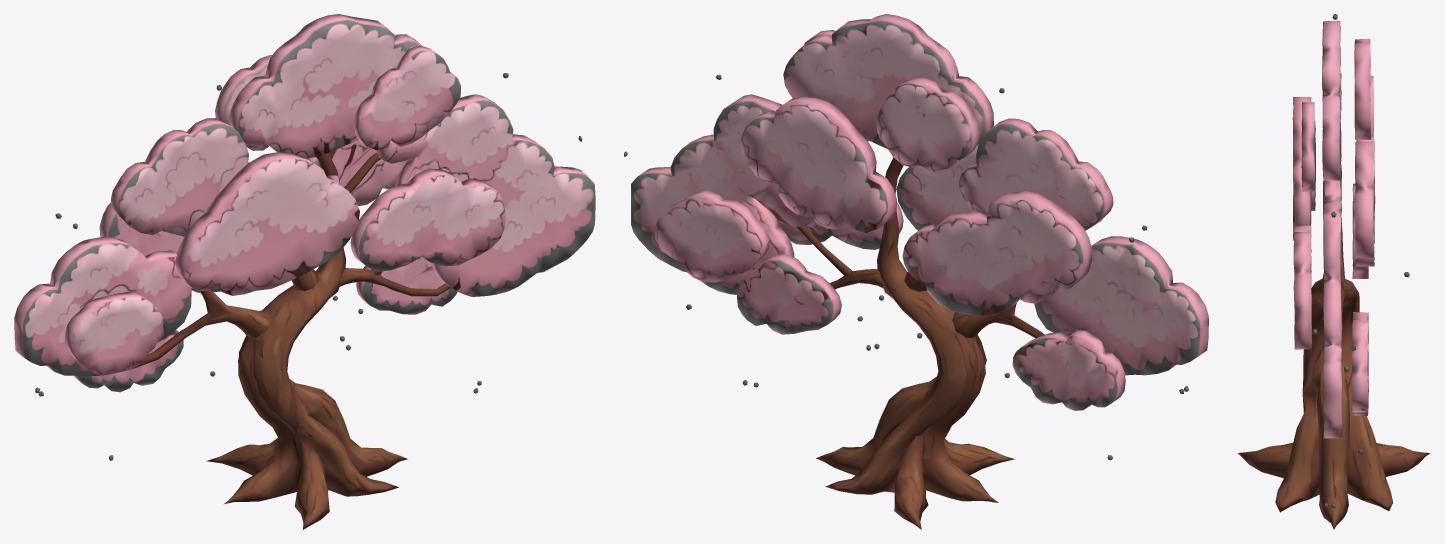
The model's file is sakura.glb.
3 renders of one model, left to right at view 1: azimuth 30°, elevation 25°; view 2: azimuth 150°, elevation 25°; view 3: azimuth 270°, elevation 25°, orthographic.
Visible parts, largest first — view 1: geometry_0; view 2: geometry_0; view 3: geometry_0.
Boxes of the visible parts, x1,y1,x2,y2 form: geometry_0: [14, 14, 595, 529]; geometry_0: [624, 14, 1208, 529]; geometry_0: [1238, 14, 1430, 529].
Size of the model in its own units: 1 by 0.7705 by 0.2896.
1 material, 1 textured.
